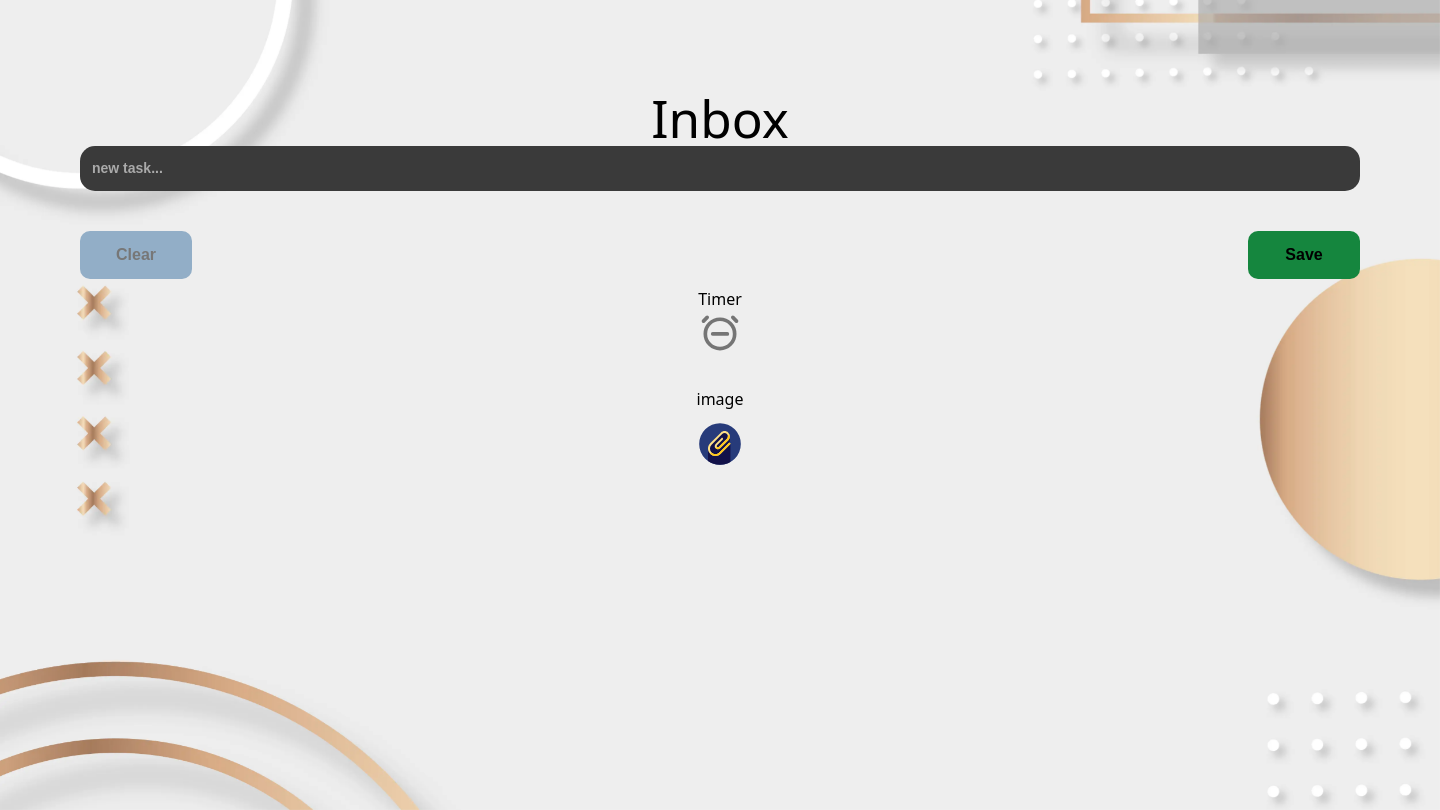
Test case: Inbox: validation › shows an error if the title is shorter than 5 characters
Type "abc" into the field with placeholder "new task..." at (720, 169), box [80,146,1360,191]
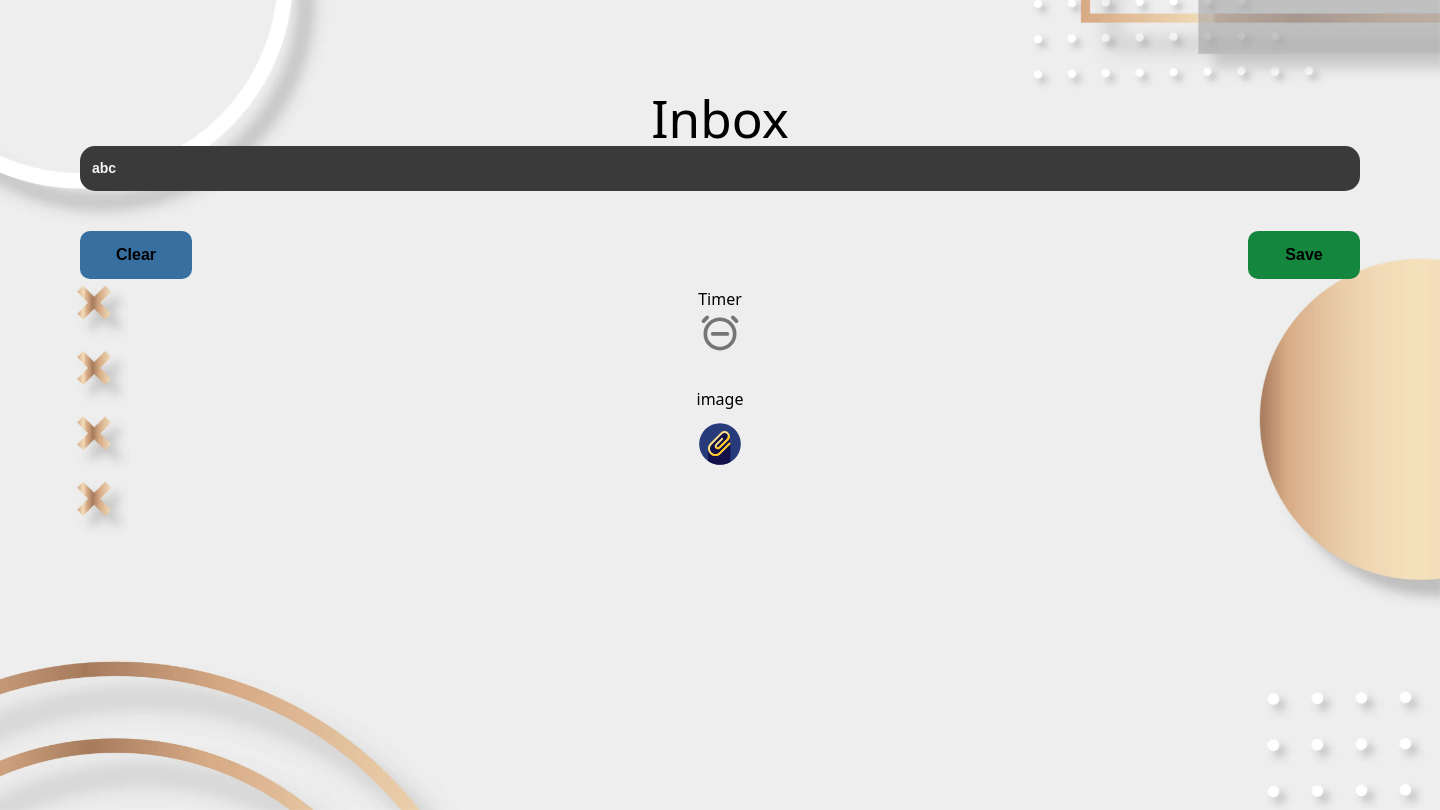
Click the button "Save" at (1304, 255), box [1248,231,1360,279]
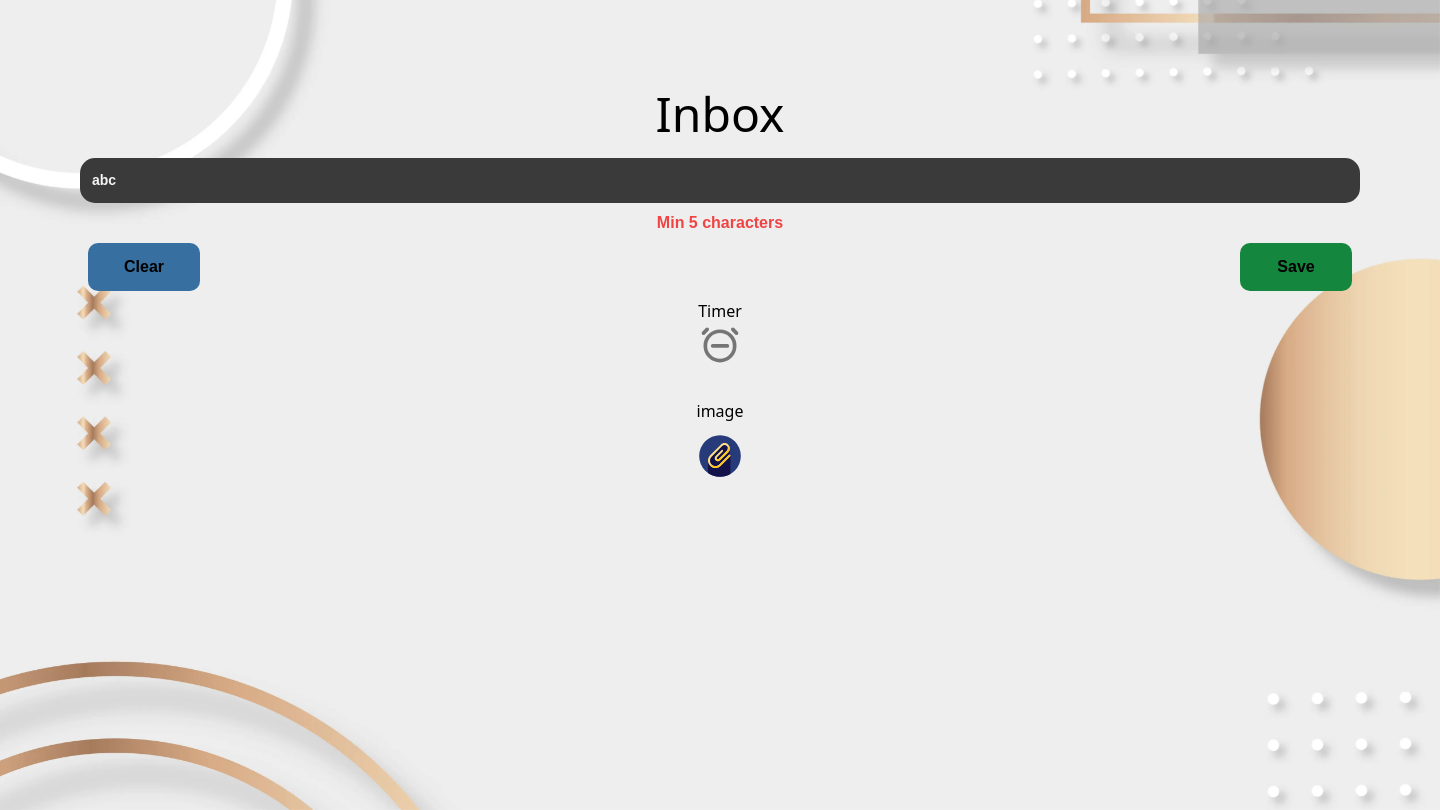
Now the text "Min 5 characters" is shown, box [657,214,783,231]
